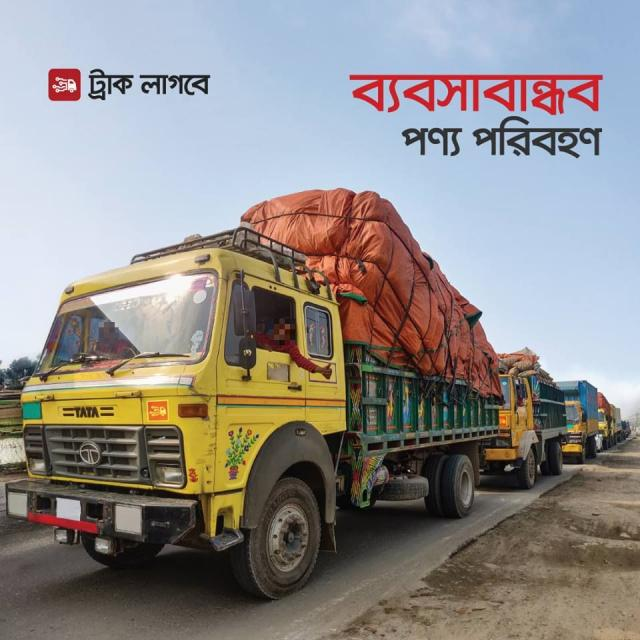truck: (14, 235, 500, 587), (493, 340, 569, 495), (559, 367, 599, 467), (600, 391, 615, 449)
